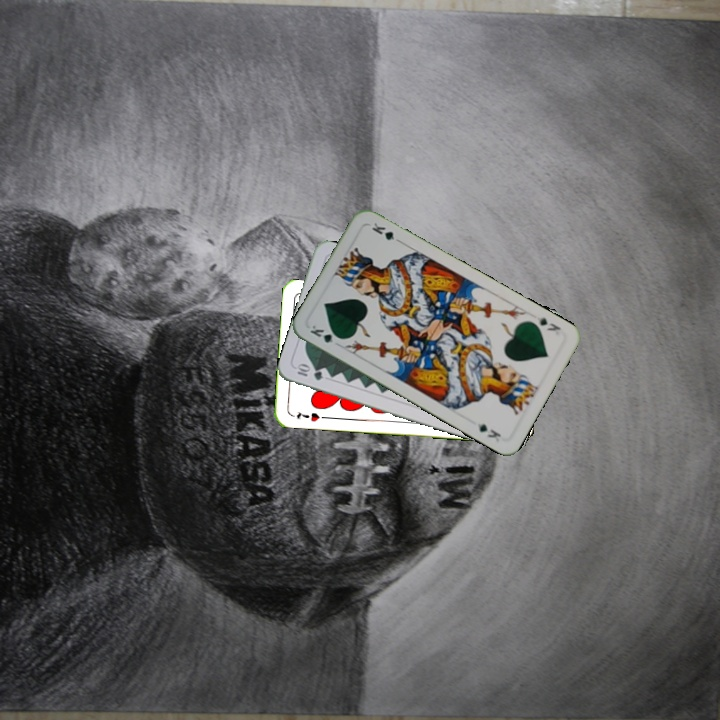G10: (292, 361, 326, 383)
GK: (306, 321, 345, 346), (533, 313, 563, 338)
H7: (293, 408, 322, 424)
